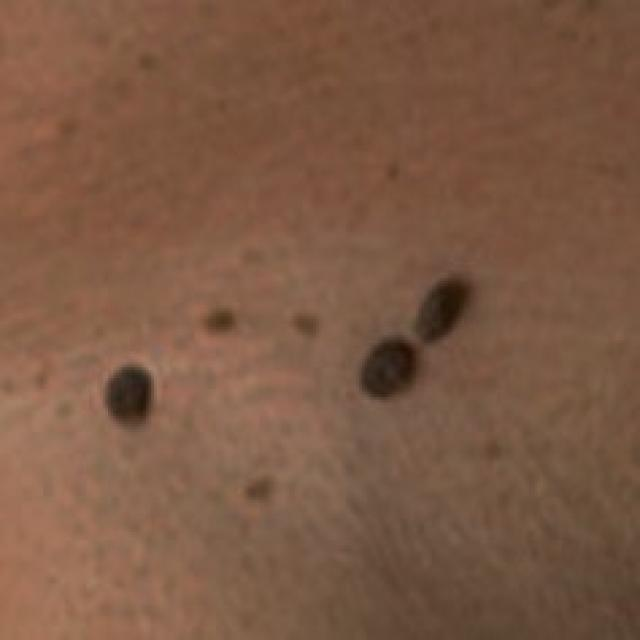wart: (338, 256, 492, 418), (86, 340, 173, 440)
